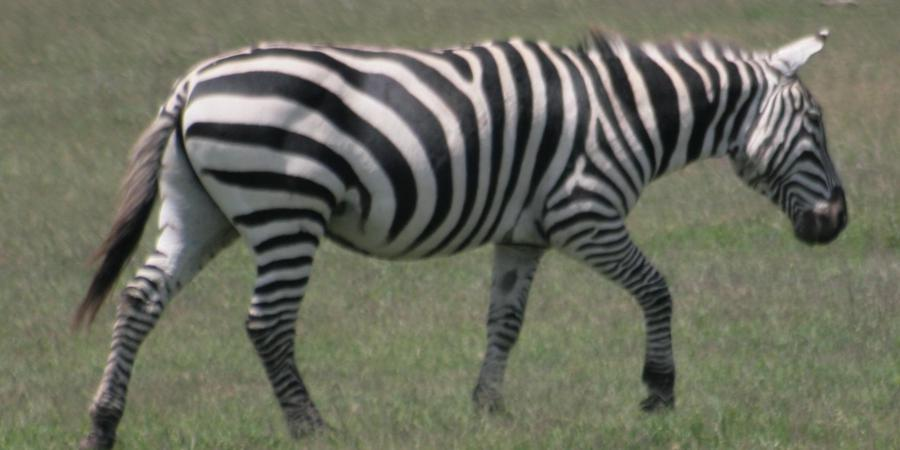zebra_plains: (174, 0, 627, 285)
